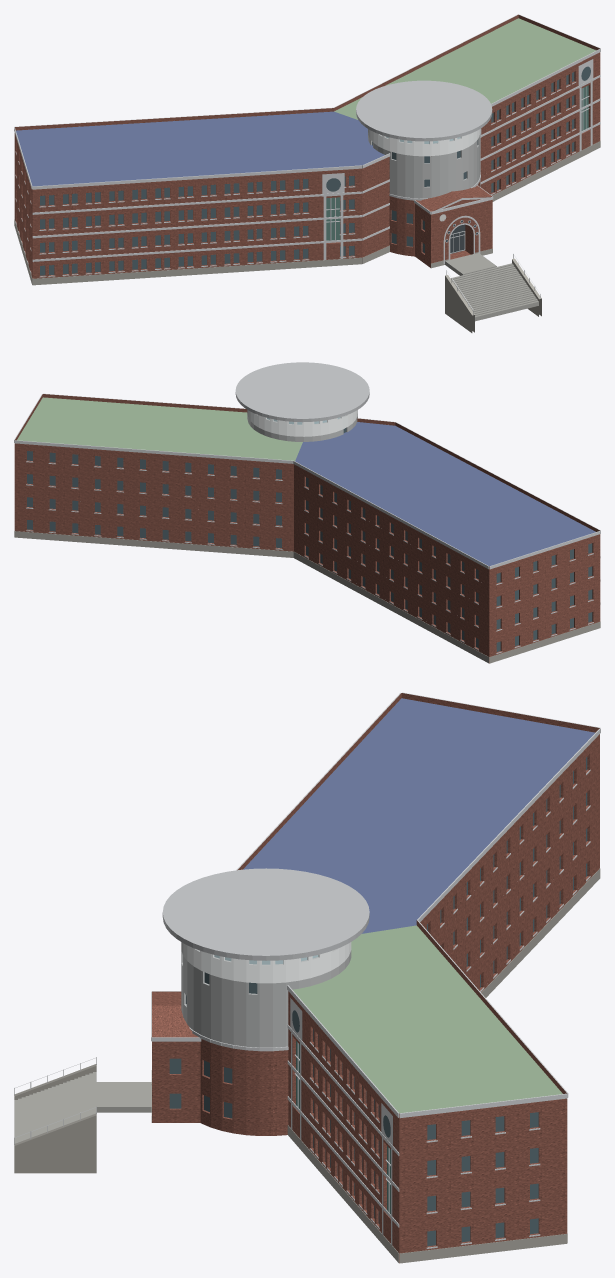
3 renders of one model, top to bottom at view 1: azimuth 30°, elevation 25°; view 2: azimuth 150°, elevation 25°; view 3: azimuth 270°, elevation 25°, orthographic. The views are drawn at different scales.
Visible parts, largest first — view 1: library__wall, library__roof-east, library__trim, library__glass, library__roof-southwest, library__eave-top, library__base, library__drum-stone, library__drum-stone-hi-membrane, library__bay-glass, library__threshold; view 2: library__wall, library__roof-east, library__roof-southwest, library__eave-top, library__glass, library__base, library__trim, library__drum-stone-hi-membrane, library__drum-stone; view 3: library__wall, library__roof-east, library__roof-southwest, library__eave-top, library__trim, library__base, library__drum-stone, library__glass, library__drum-stone-hi-membrane, library__threshold.
Boxes of the visible parts, x1,y1,x2,y2 form: library__wall: [14, 14, 600, 278]; library__roof-east: [16, 111, 384, 186]; library__trim: [14, 14, 600, 315]; library__glass: [40, 66, 590, 275]; library__roof-southwest: [334, 18, 596, 119]; library__eave-top: [356, 80, 492, 141]; library__base: [14, 141, 600, 332]; library__drum-stone: [368, 133, 480, 198]; library__drum-stone-hi-membrane: [368, 129, 480, 156]; library__bay-glass: [326, 85, 588, 240]; library__threshold: [445, 253, 496, 275]; library__wall: [14, 394, 600, 663]; library__roof-east: [295, 422, 595, 566]; library__roof-southwest: [17, 397, 302, 460]; library__eave-top: [235, 362, 369, 422]; library__glass: [27, 428, 592, 651]; library__base: [14, 531, 600, 663]; library__trim: [14, 393, 600, 653]; library__drum-stone-hi-membrane: [247, 410, 357, 436]; library__drum-stone: [247, 414, 357, 441]; library__wall: [152, 693, 599, 1262]; library__roof-east: [243, 698, 594, 933]; library__roof-southwest: [292, 925, 562, 1113]; library__eave-top: [162, 868, 369, 960]; library__trim: [14, 692, 600, 1248]; library__base: [14, 868, 600, 1263]; library__drum-stone: [181, 950, 351, 1047]; library__glass: [169, 757, 587, 1246]; library__drum-stone-hi-membrane: [181, 942, 351, 983]; library__threshold: [96, 1082, 151, 1112].
Size of the model in its own units: 101 by 26.35 by 59.57.
Materials: 18 (1 with a texture image).
